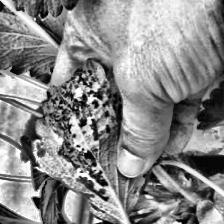Angular Leafspot: (30, 57, 146, 224)
